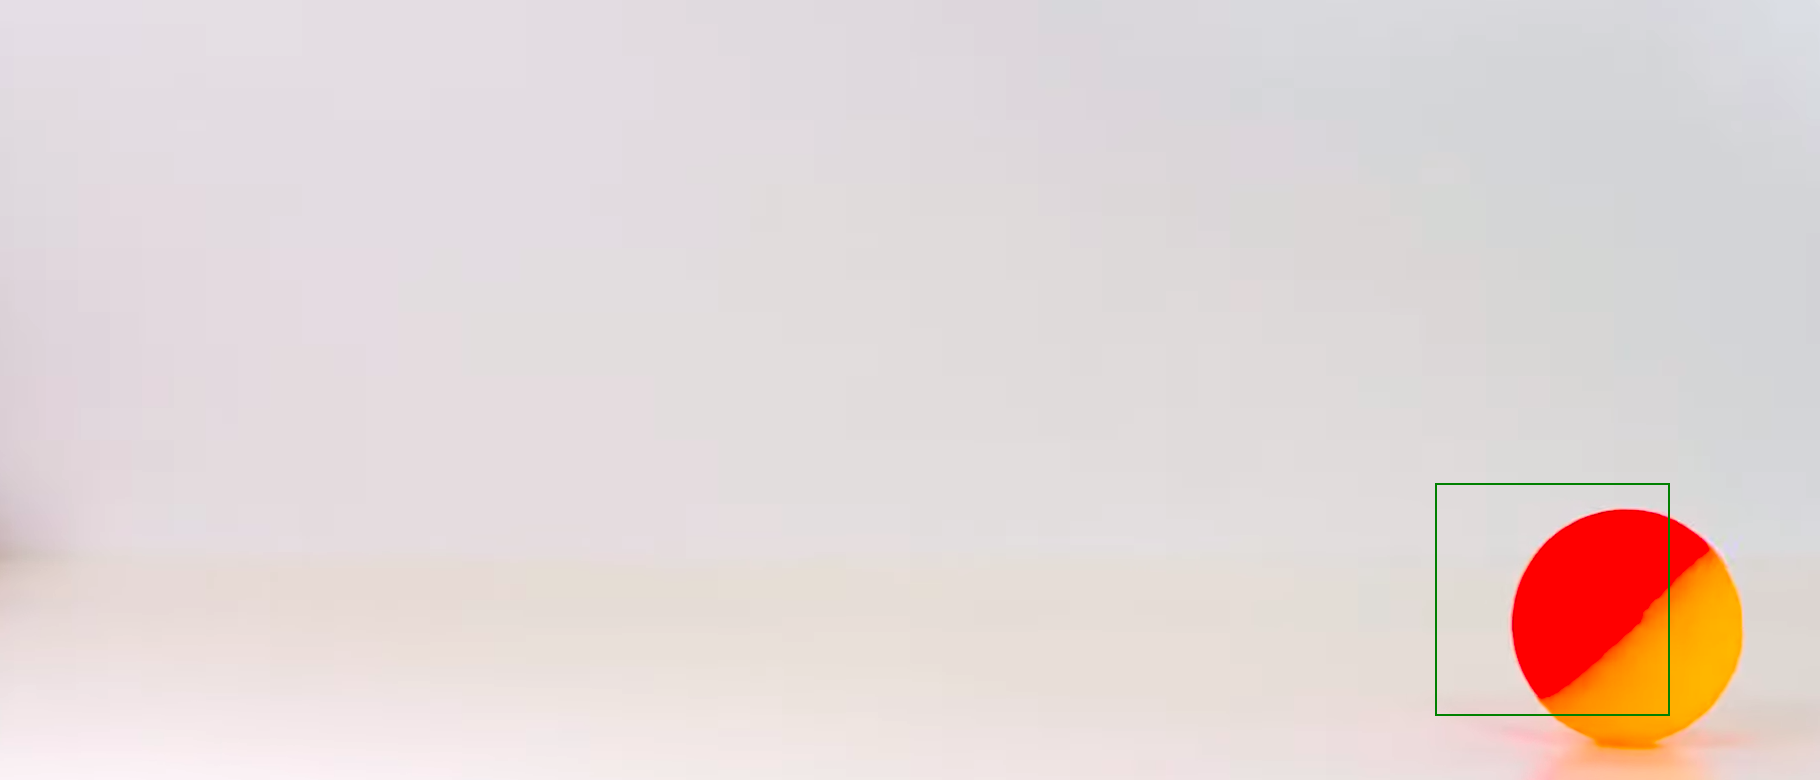Circle: (1510, 506, 1746, 751)
